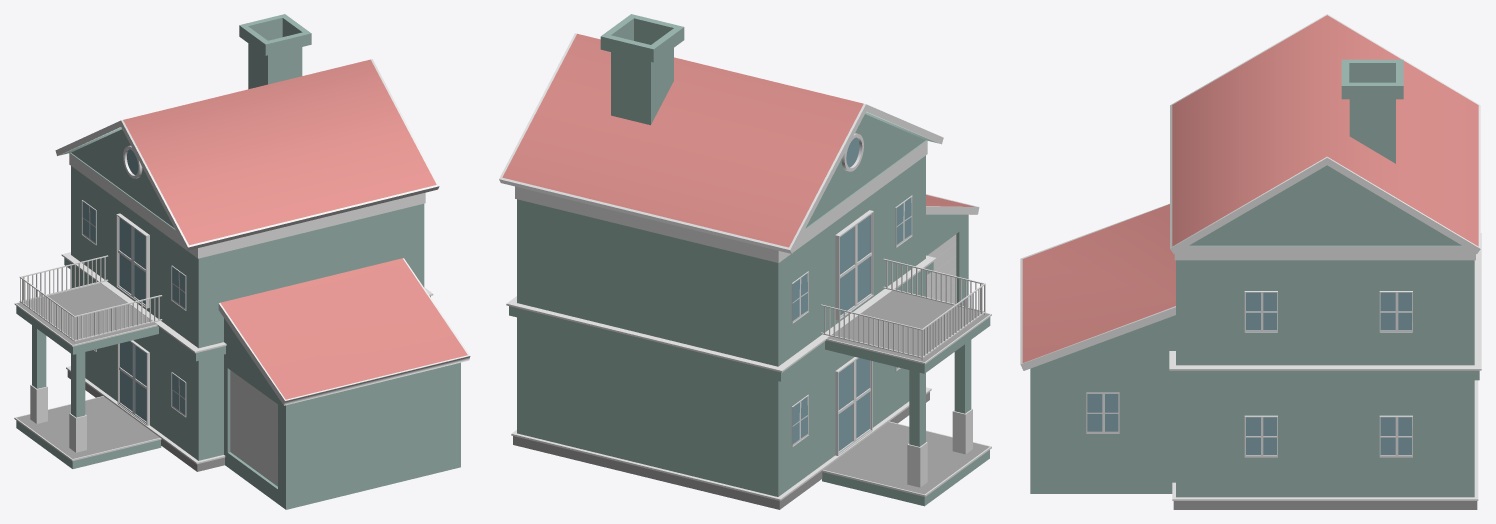
Rendered from Res2.obj.
3 views of the same model, side by side, from view 1: azimuth 30°, elevation 25°; view 2: azimuth 150°, elevation 25°; view 3: azimuth 270°, elevation 25° (orthographic). The views are drawn at different scales.
Parts seen in each view (by area): view 1: Res2, Shutter_2, Chimney_2, door_up, door_main, windows_9; view 2: Res2, Chimney_2, door_up, door_main, windows_9, Shutter_2, Hole; view 3: Res2, windows_9, Chimney_2.
Part boxes in pixels (bbox=[...]): Res2: bbox=[14, 59, 470, 509]; Shutter_2: bbox=[230, 370, 277, 486]; Chimney_2: bbox=[239, 14, 311, 89]; door_up: bbox=[116, 213, 149, 308]; door_main: bbox=[117, 340, 149, 425]; windows_9: bbox=[81, 200, 186, 417]; Res2: bbox=[499, 33, 991, 509]; Chimney_2: bbox=[600, 14, 684, 125]; door_up: bbox=[835, 210, 873, 320]; door_main: bbox=[835, 357, 872, 455]; windows_9: bbox=[791, 195, 912, 447]; Shutter_2: bbox=[927, 234, 956, 303]; Hole: bbox=[841, 133, 863, 171]; Res2: bbox=[1020, 14, 1481, 509]; windows_9: bbox=[1086, 291, 1412, 457]; Chimney_2: bbox=[1341, 59, 1403, 163].
Bounding box in the file's own units: 0.618 × 0.6131 × 0.6382.
